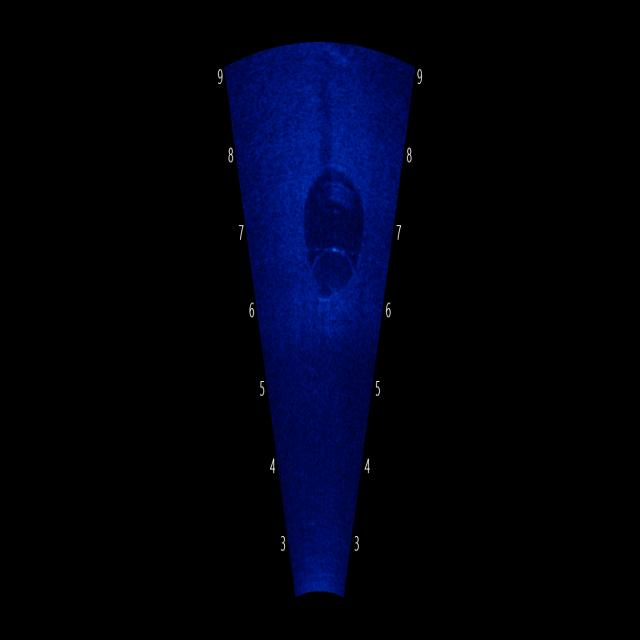circle: (295, 149, 369, 323)
